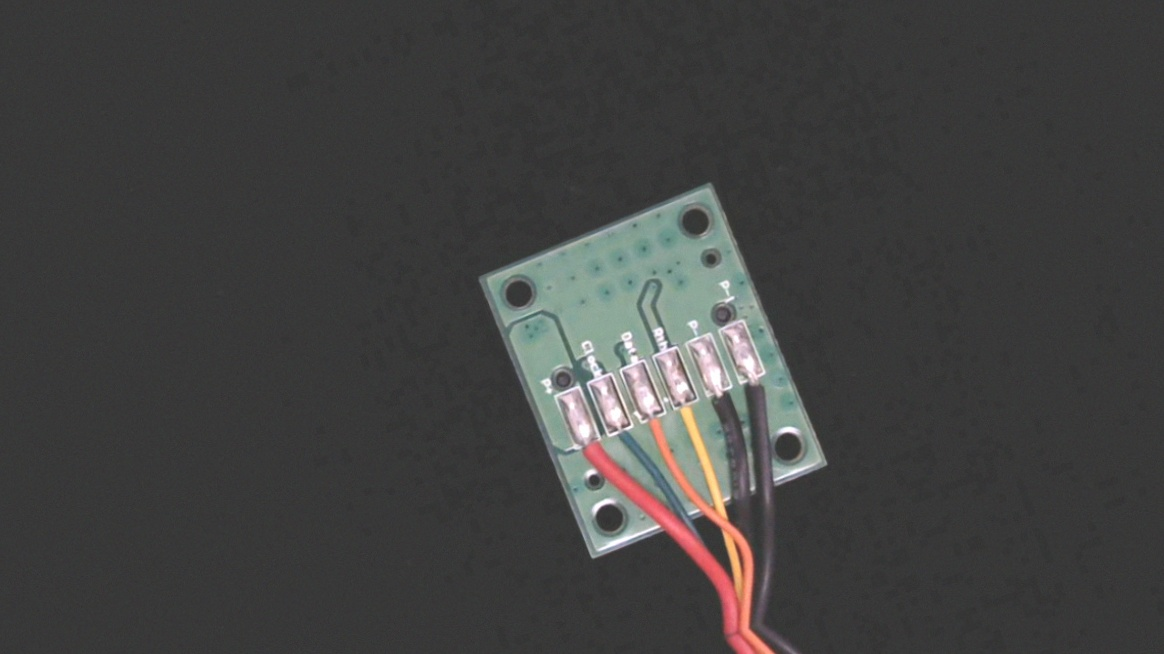Black: (697, 370, 750, 444)
Black1: (735, 355, 786, 425)
Green: (601, 413, 647, 467)
Orange: (632, 398, 684, 471)
Red: (566, 421, 618, 493)
Yellow: (664, 385, 718, 460)
